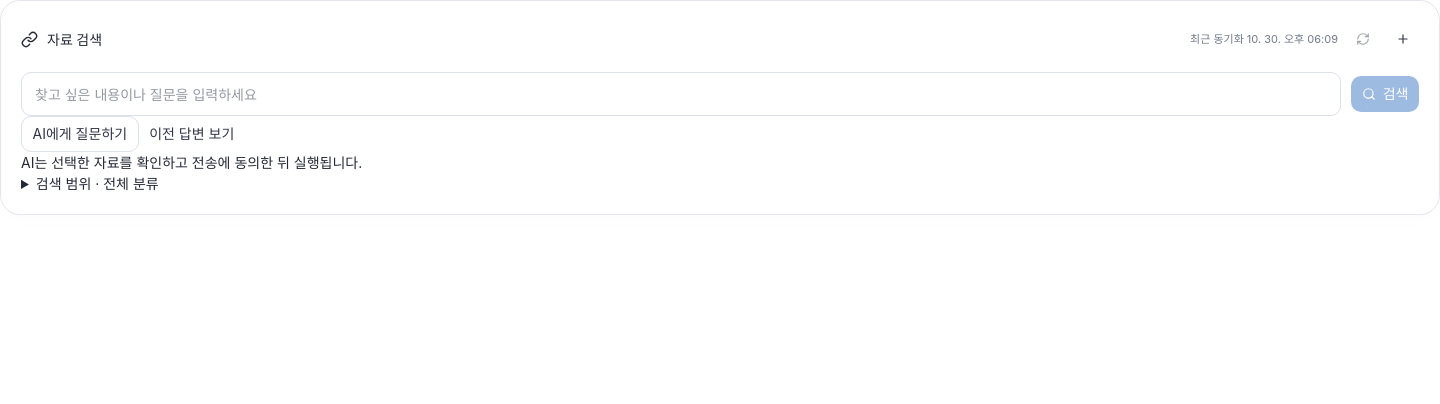
blocks Github pasted as a web link: https://github.com/org/repo
The width and height of the screenshot is (1440, 404).
Click the button named "자료 추가" at (1403, 39), box [1388, 21, 1419, 57]
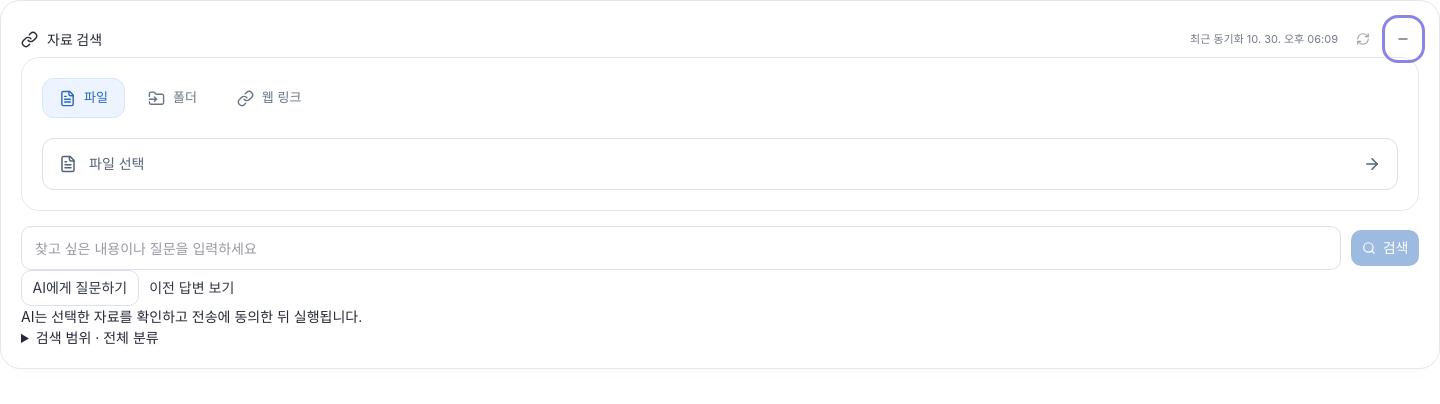
Click the button "웹 링크" at (269, 98), box [220, 78, 318, 118]
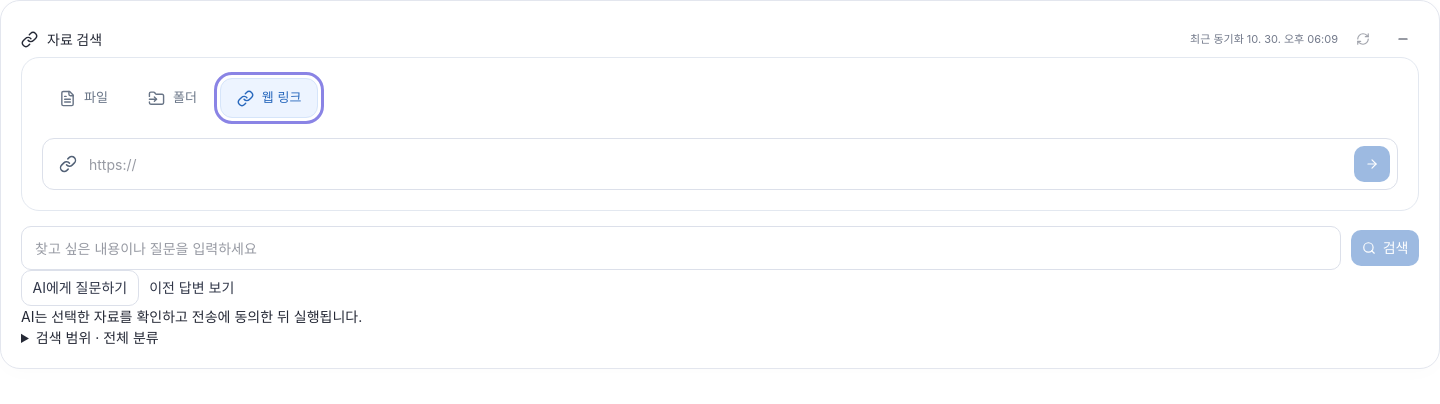
Type "https://github.com/org/repo" into the field named "웹 URL" at (716, 164), box [89, 140, 1342, 188]
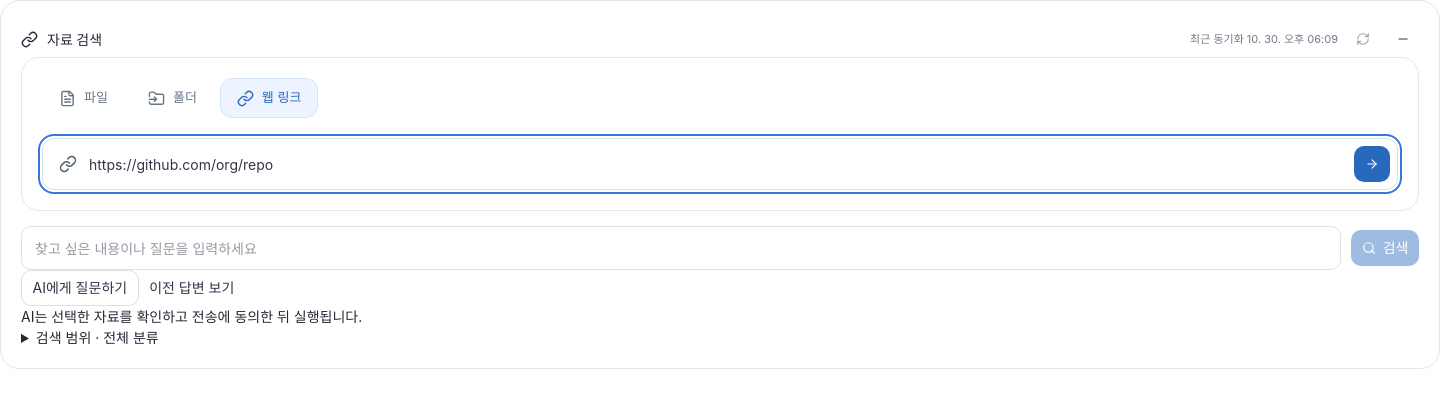
Click the button named "추가" at (1372, 164), box [1354, 146, 1390, 182]
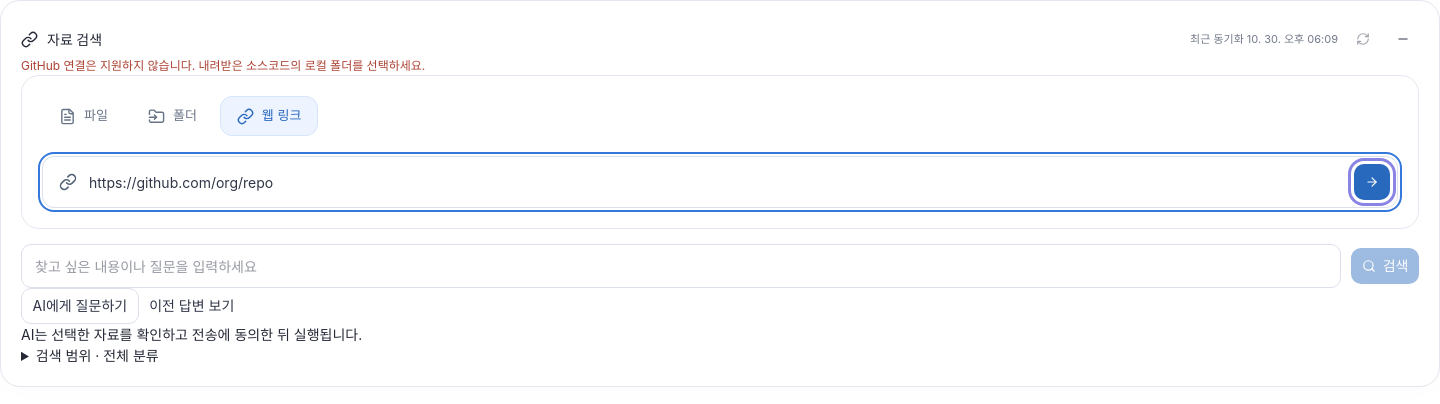
Result: the message shows "GitHub 연결은 지원하지 않습니다" at [21, 58, 425, 73]
